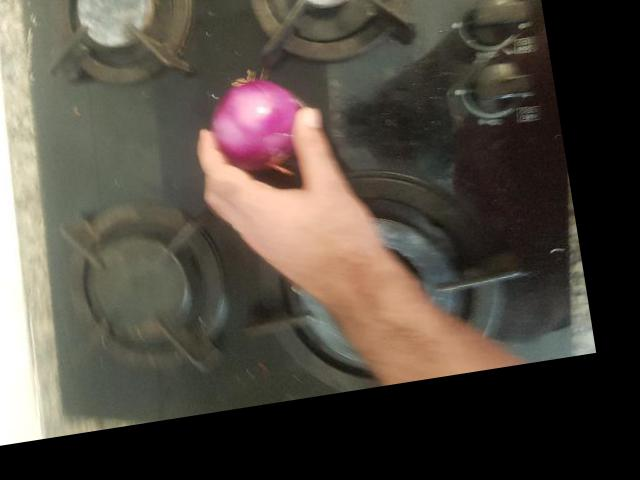onion: (66, 30, 168, 134)
